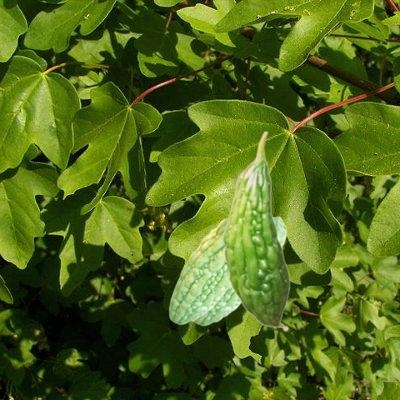ampalaya: (221, 130, 291, 332), (193, 214, 287, 328), (168, 216, 230, 327)
